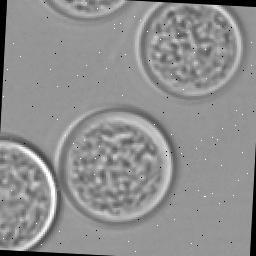picoshell: (52, 101, 175, 222), (134, 1, 242, 98), (0, 137, 58, 249), (43, 0, 127, 19)
